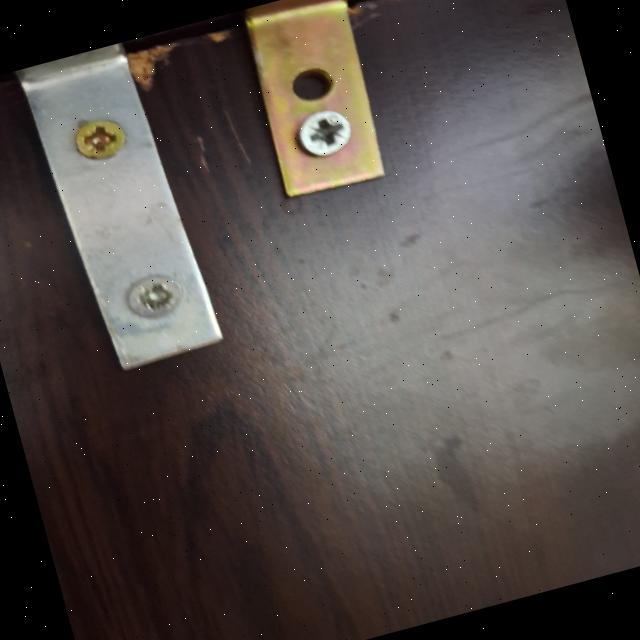Pozidriv: (114, 266, 188, 327), (299, 106, 356, 162), (74, 115, 128, 158)
